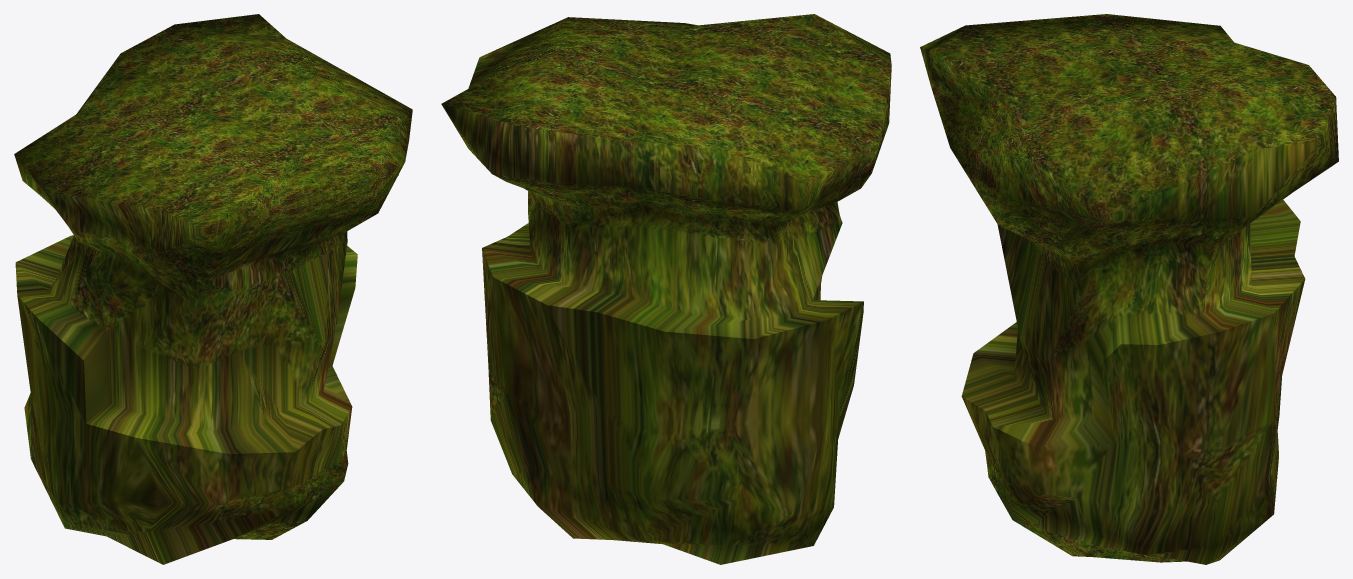
File: LVL_ROAST_MUTTON_ROCK_LEDGE01.fbx
The picture shows the model from 3 angles, left to right: view 1: azimuth 30°, elevation 25°; view 2: azimuth 150°, elevation 25°; view 3: azimuth 270°, elevation 25°; orthographic projection. The views are drawn at different scales.
Visible parts, largest first — view 1: LVL_ROAST_MUTTON_ROCK_LEDGE01; view 2: LVL_ROAST_MUTTON_ROCK_LEDGE01; view 3: LVL_ROAST_MUTTON_ROCK_LEDGE01.
Boxes of the visible parts, x1,y1,x2,y2 form: LVL_ROAST_MUTTON_ROCK_LEDGE01: (14, 14, 412, 564); LVL_ROAST_MUTTON_ROCK_LEDGE01: (441, 14, 891, 564); LVL_ROAST_MUTTON_ROCK_LEDGE01: (920, 14, 1338, 564).
Size of the model in its own units: 101099 by 115347 by 90275.
Materials: 1 (1 with a texture image).
